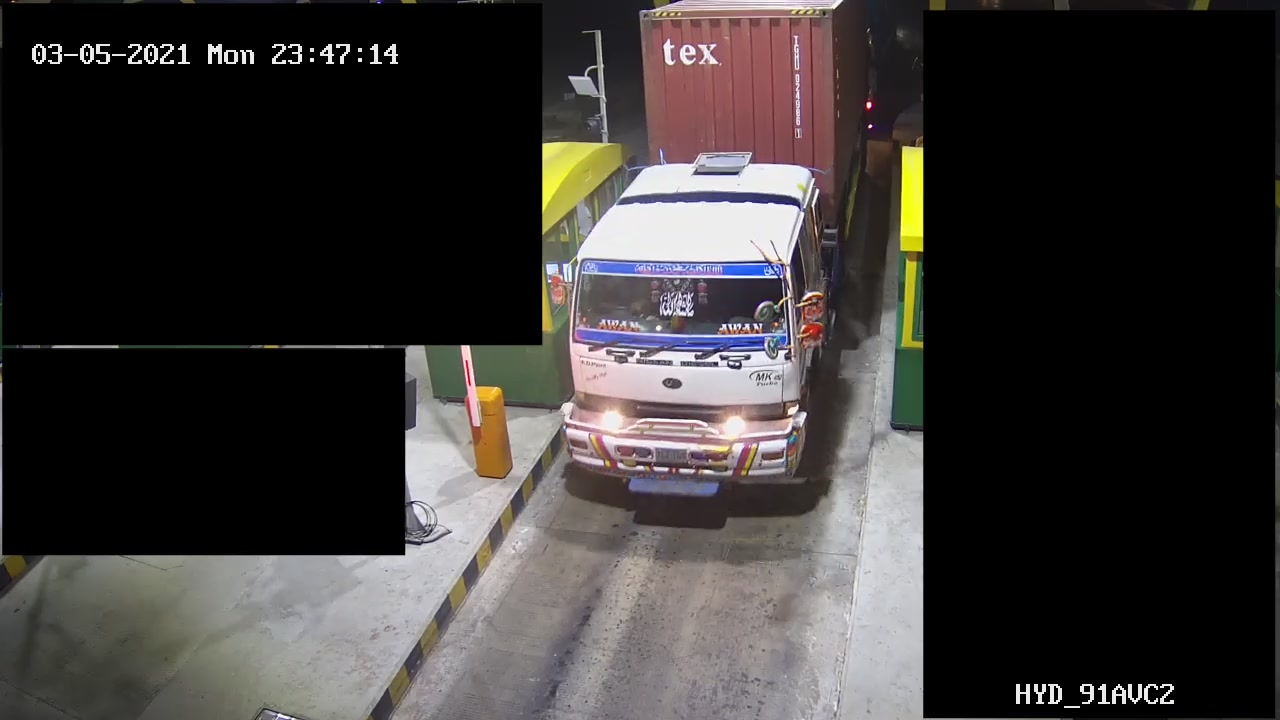F6: (558, 1, 885, 528)
